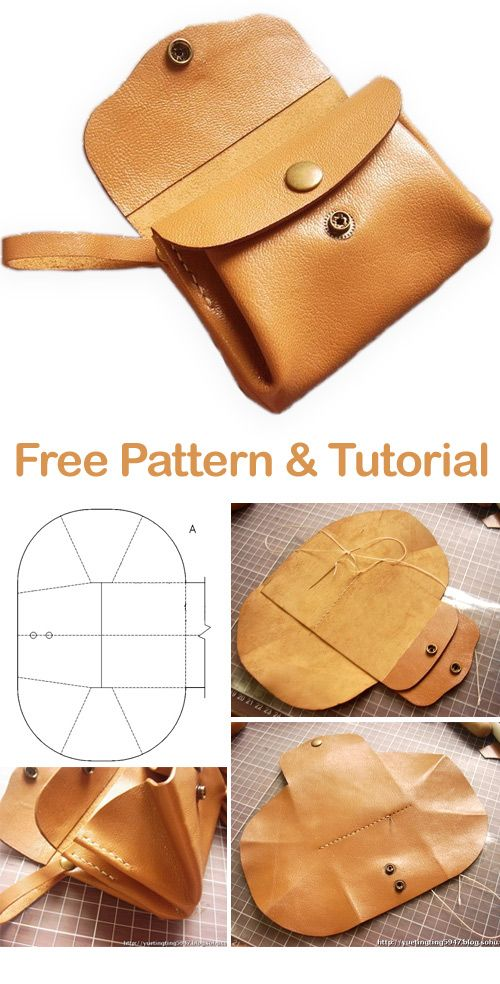cuero: (2, 17, 491, 940)
